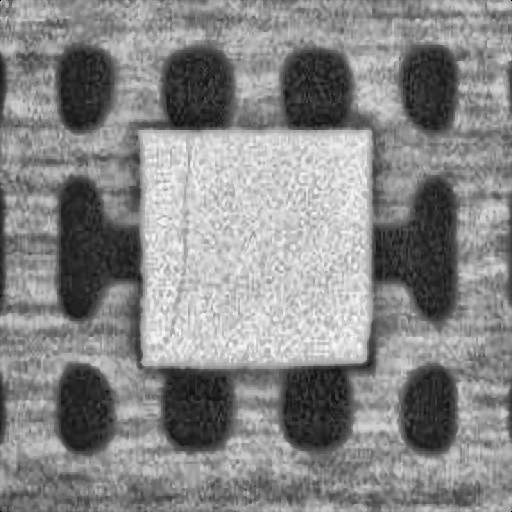DIE_CRACK: (152, 138, 195, 350)
